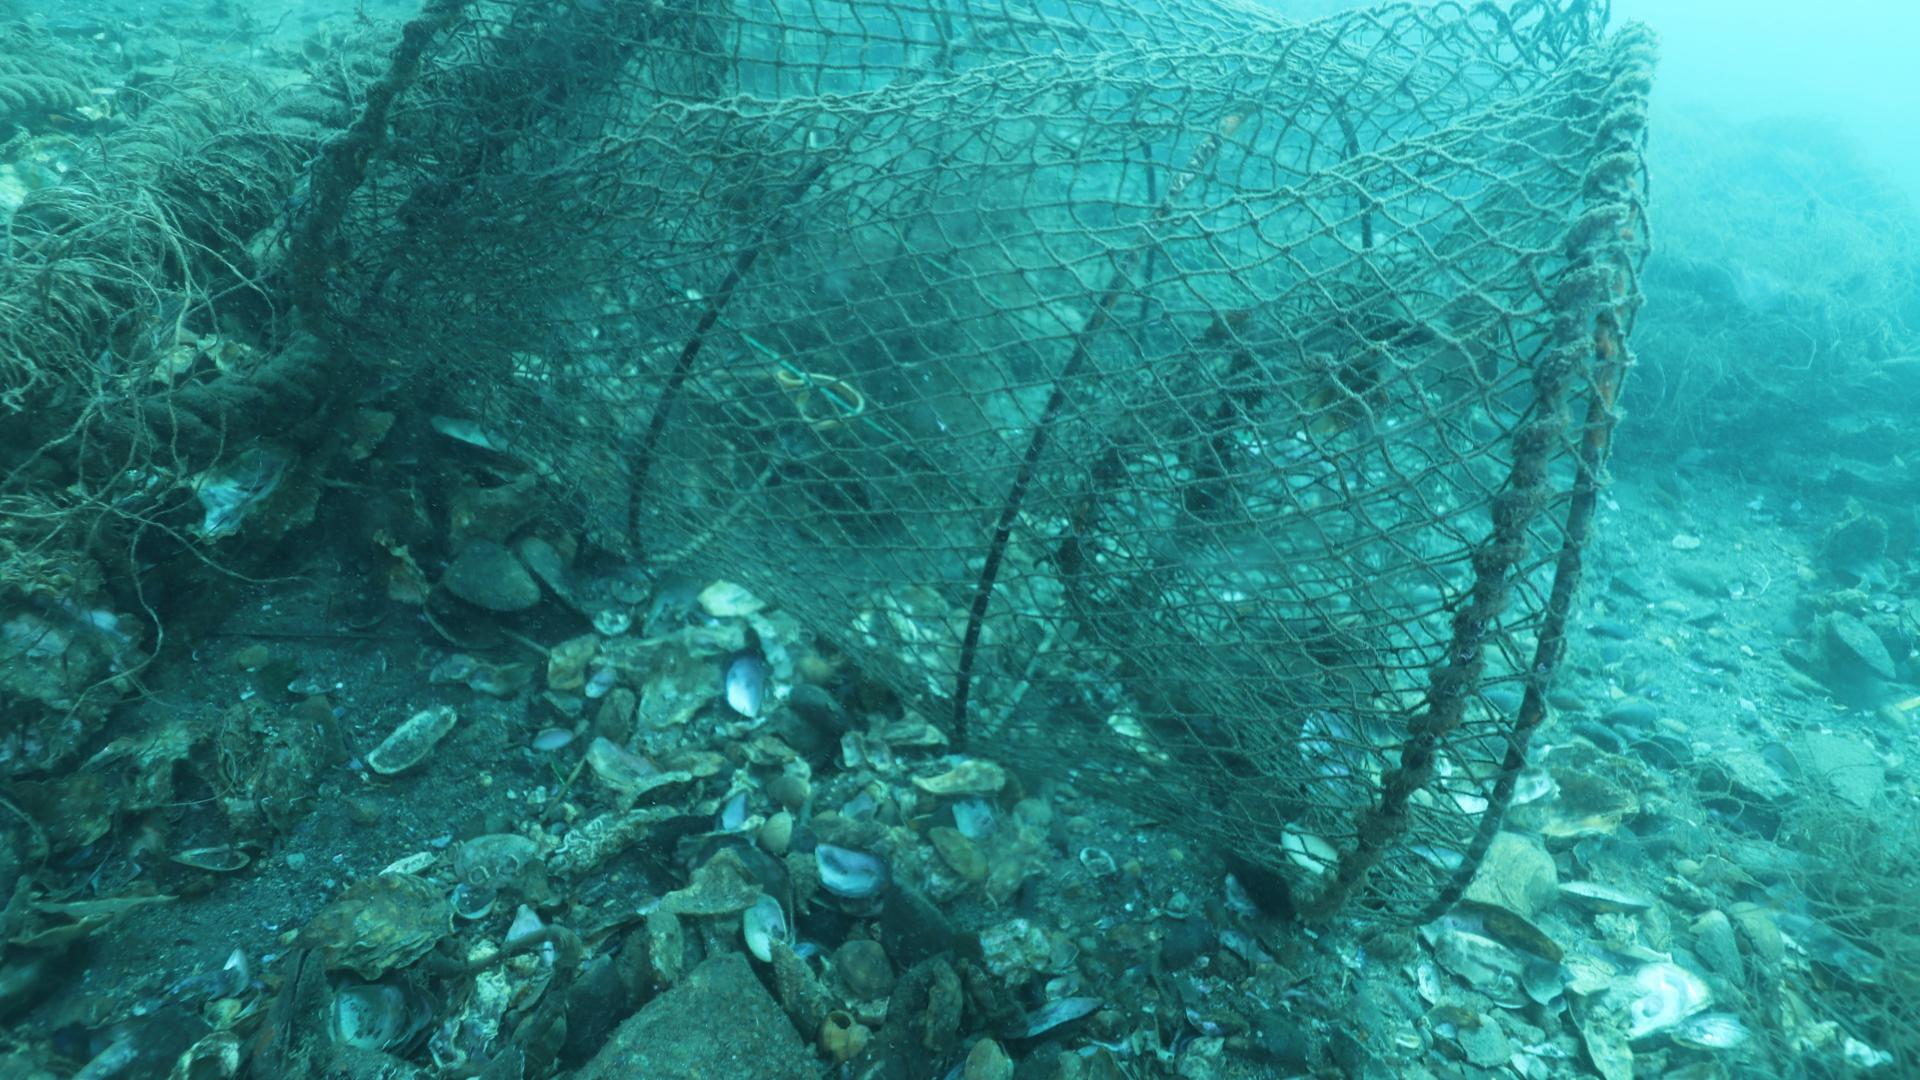bundle of ropes: (0, 54, 84, 123)
rope: (272, 36, 396, 158)
spring fish trap: (274, 0, 1659, 922)
